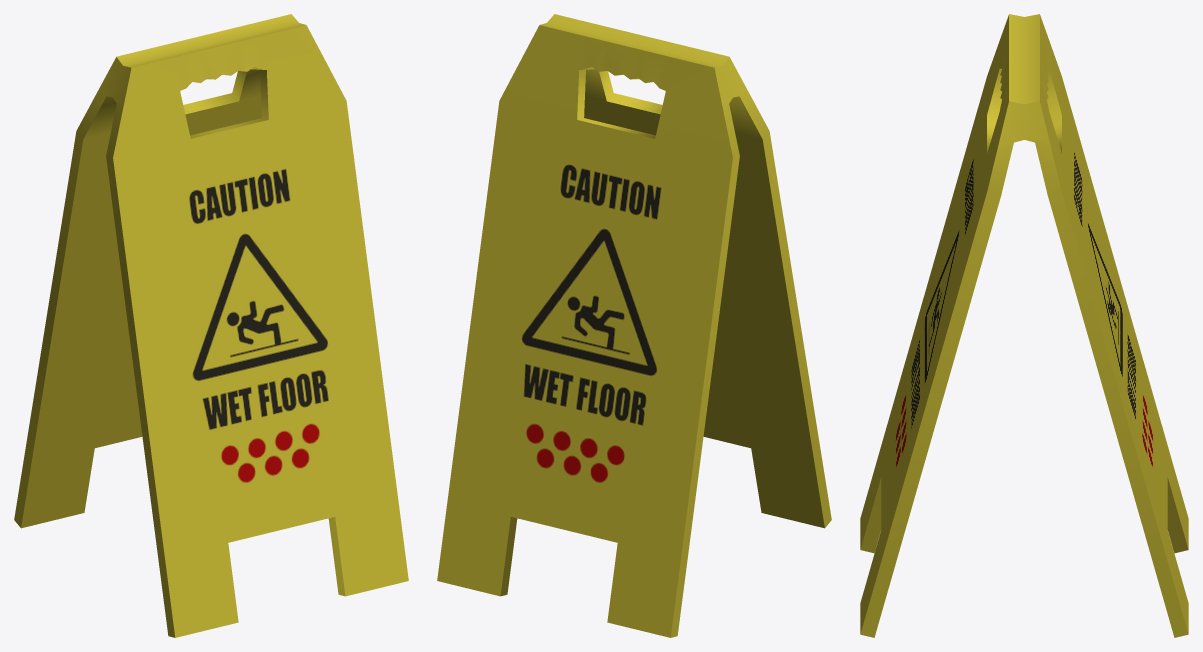
The model's file is wet_floor_sign.glb.
3 renders of one model, left to right at view 1: azimuth 30°, elevation 25°; view 2: azimuth 150°, elevation 25°; view 3: azimuth 270°, elevation 25°, orthographic.
Parts seen in each view (by area): view 1: WetFloorSign; view 2: WetFloorSign; view 3: WetFloorSign.
Part boxes in pixels (left/top/right/bottom): WetFloorSign: left=14, top=14, right=408, bottom=637; WetFloorSign: left=437, top=14, right=831, bottom=637; WetFloorSign: left=860, top=14, right=1188, bottom=637.
Bounding box in the file's own units: 30.01 × 62.95 × 35.85.
1 material, 1 textured.
